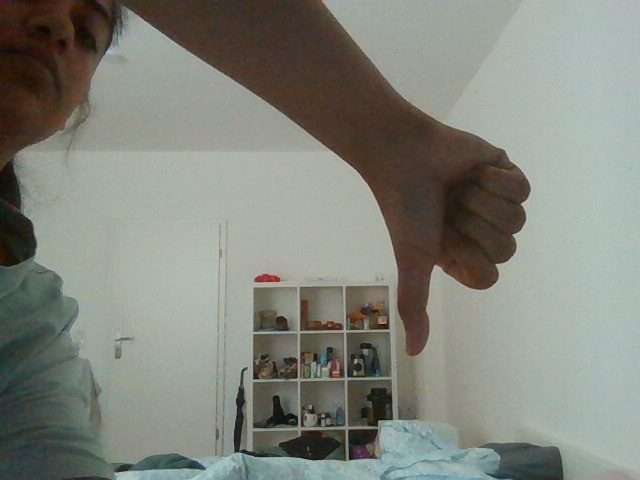Thumbs down: (384, 83, 536, 358)
